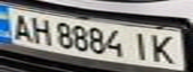4: (106, 27, 130, 58)
8: (51, 19, 75, 49), (69, 23, 90, 53), (87, 25, 106, 56)
A: (3, 11, 36, 42)
H: (27, 15, 54, 46)
I: (127, 29, 157, 62)
K: (145, 30, 184, 65)
